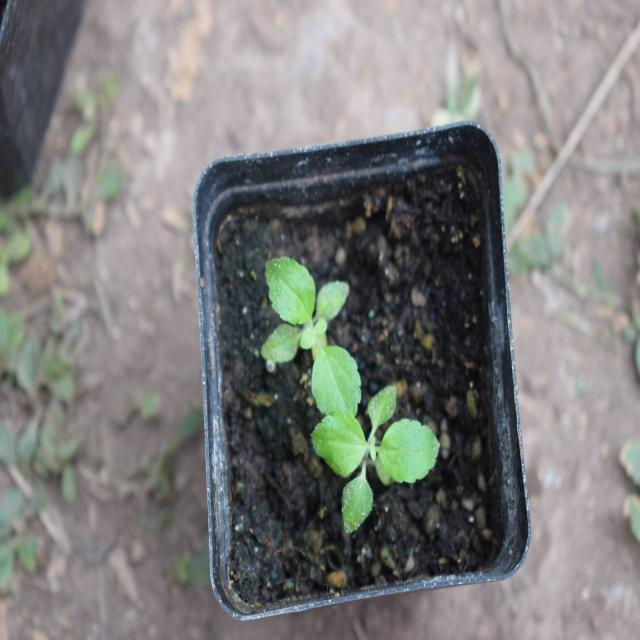billygoat_weed: (268, 251, 368, 415), (319, 370, 433, 510)
